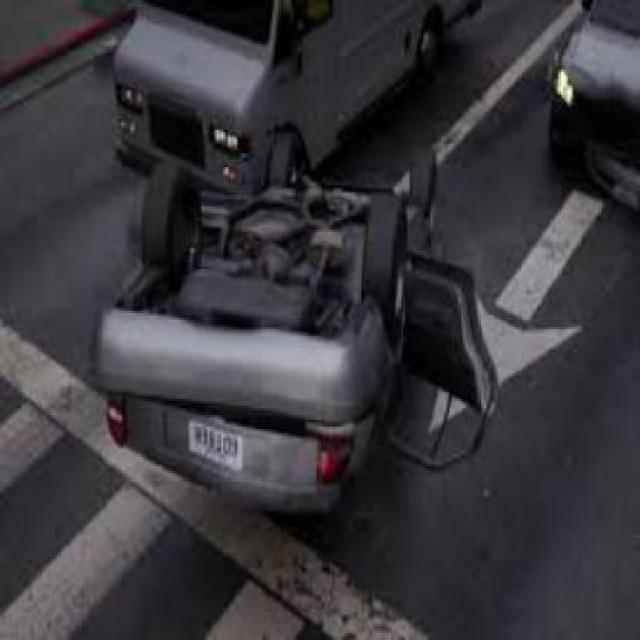accident: (92, 111, 498, 552)
